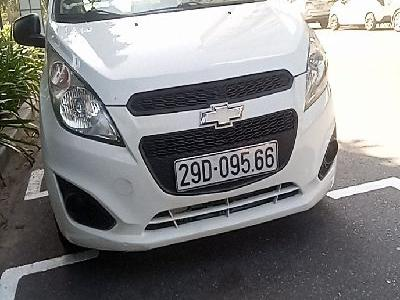number: (175, 142, 279, 194)
